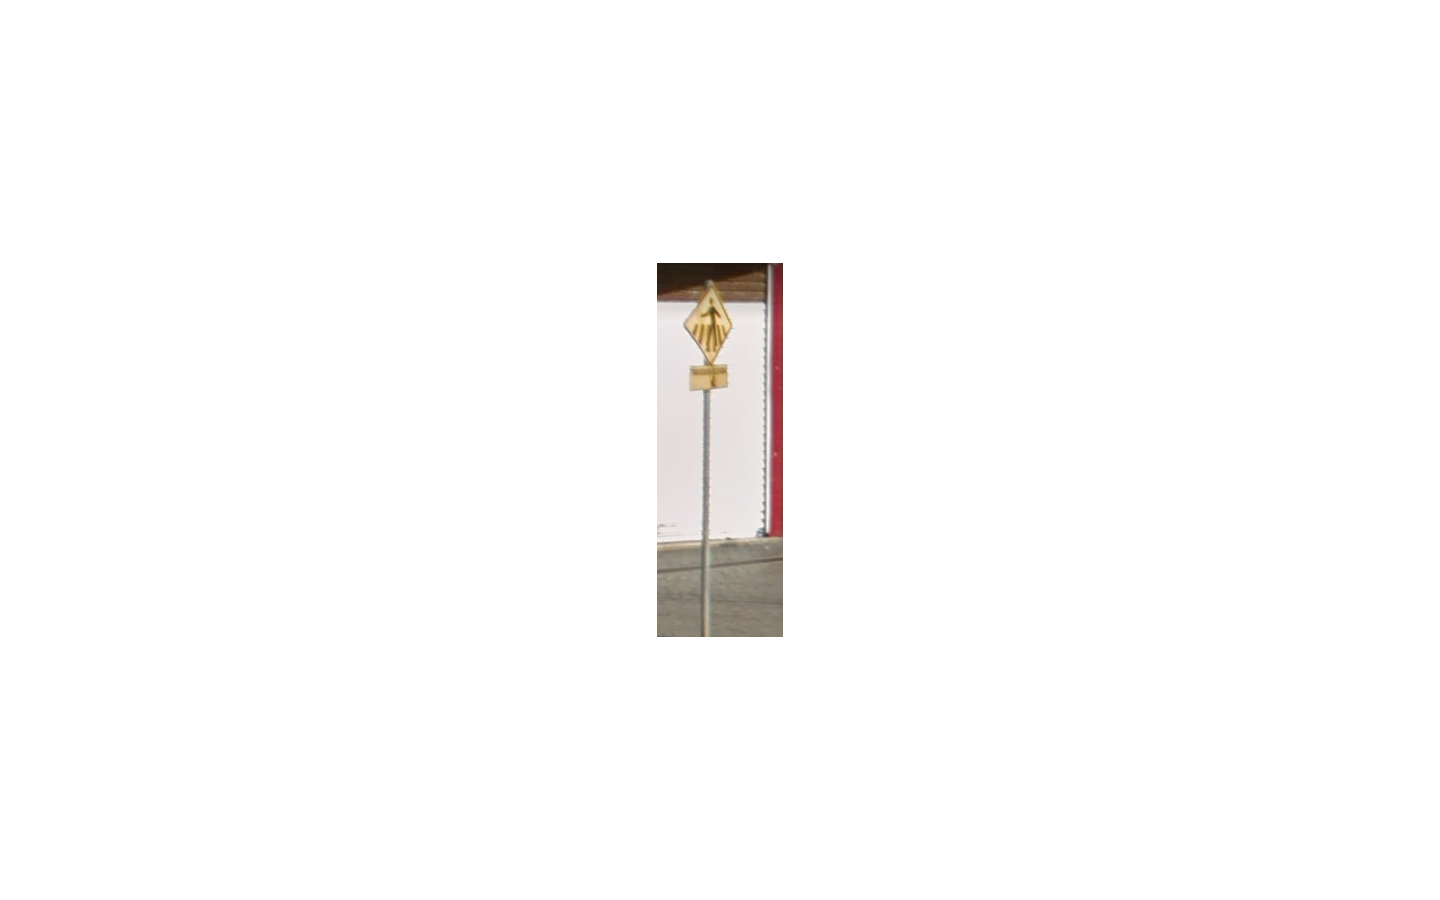telev: (682, 283, 732, 391)
